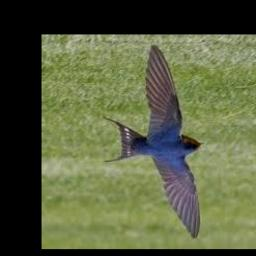Swallow: (104, 44, 204, 239)
